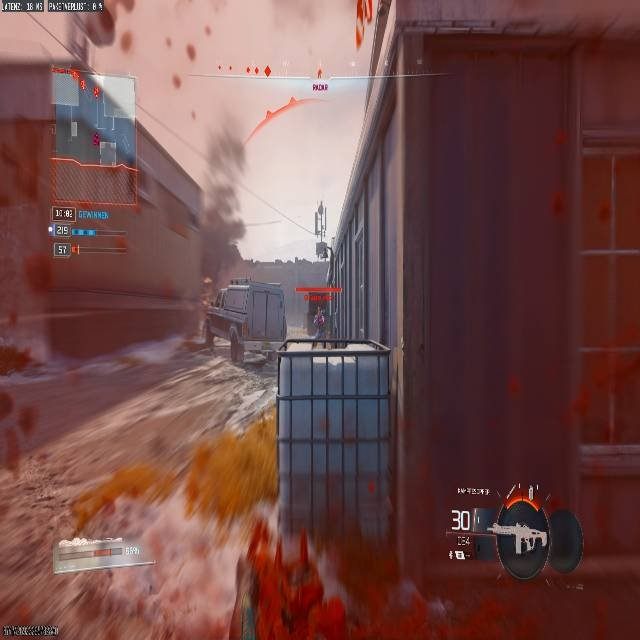player: (312, 306, 327, 342)
